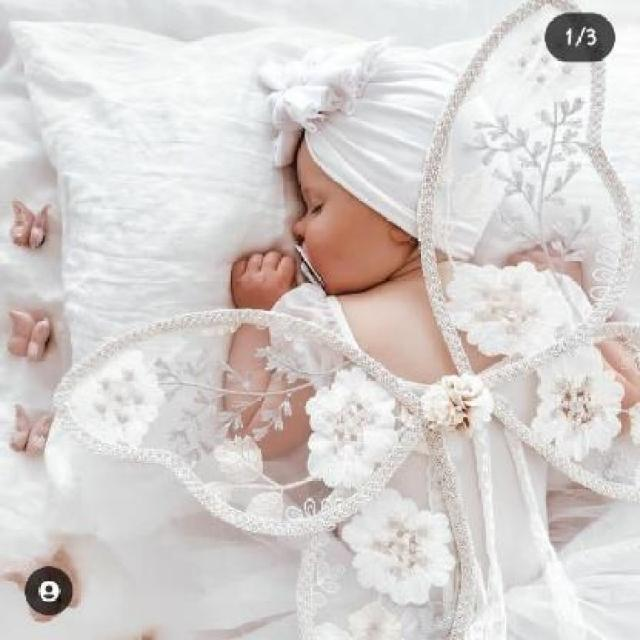baby: (220, 44, 638, 638)
